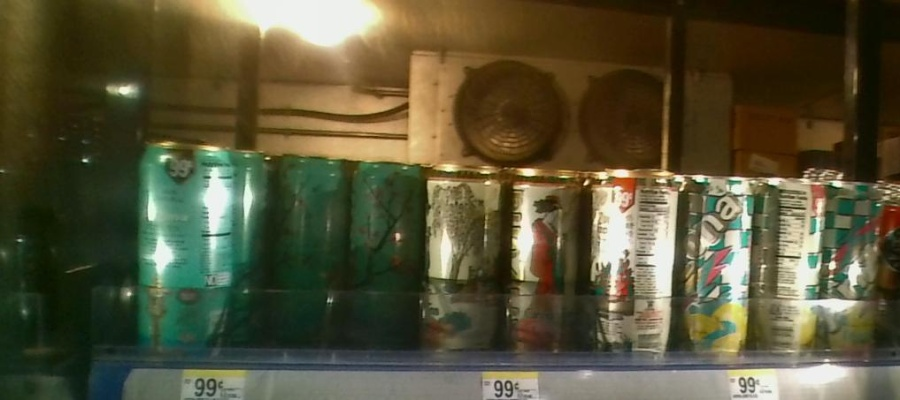bottle: (131, 139, 242, 369), (508, 164, 589, 372), (427, 157, 504, 369), (350, 155, 422, 366), (599, 167, 676, 364), (275, 151, 345, 360), (680, 168, 750, 371), (753, 171, 824, 363), (827, 173, 886, 365)
